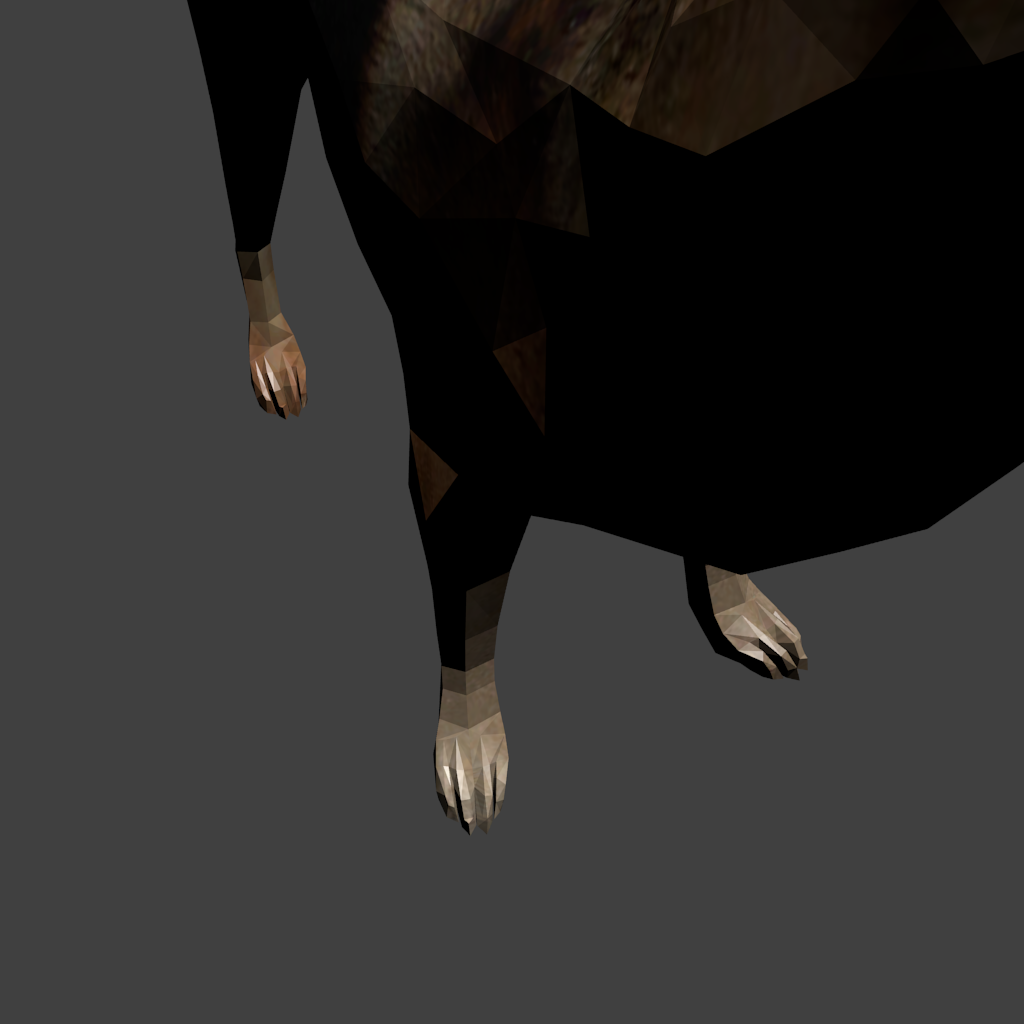Dog: (159, 0, 865, 836)
